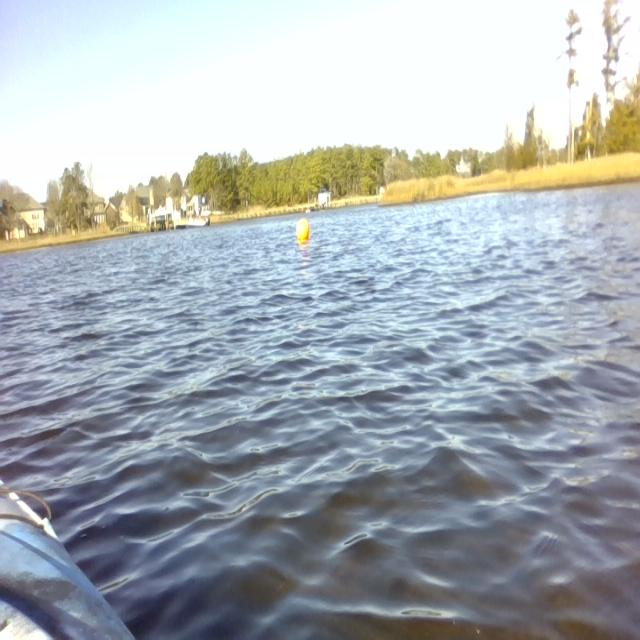Buoy: (292, 212, 313, 248)
